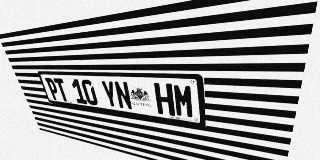0: (80, 79, 99, 106)
1: (70, 79, 88, 104)
H: (154, 83, 175, 116)
M: (173, 84, 195, 119)
N: (113, 81, 133, 110)
P: (45, 78, 61, 101)
T: (53, 78, 70, 102)
Y: (100, 80, 119, 108)
